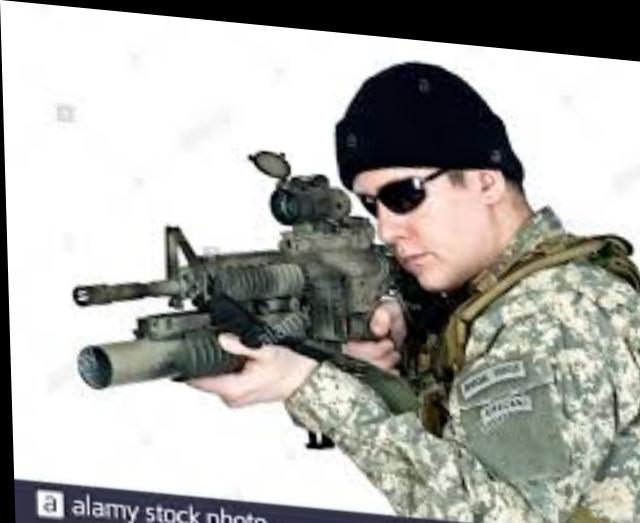other: (309, 46, 640, 520)
